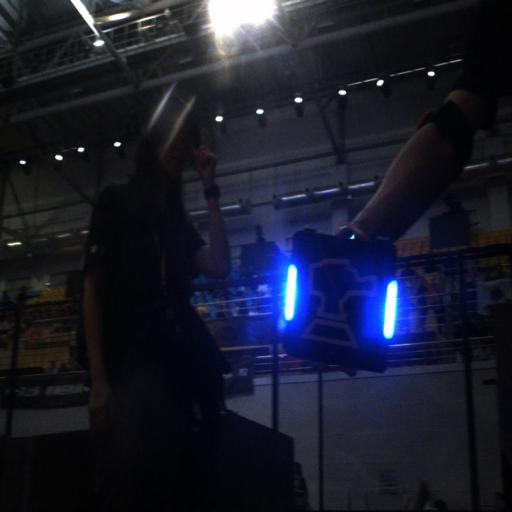target: (281, 233, 404, 365)
